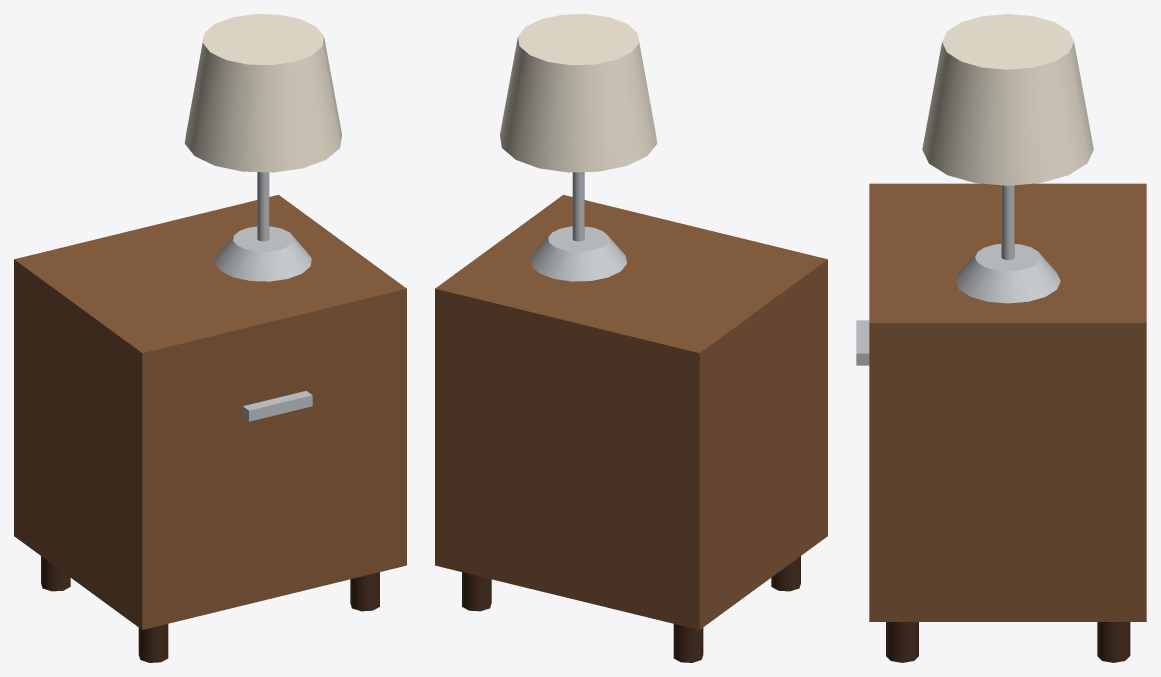
Rendered from nightstand.glb.
3 renders of one model, left to right at view 1: azimuth 30°, elevation 25°; view 2: azimuth 150°, elevation 25°; view 3: azimuth 270°, elevation 25°, orthographic. The views are drawn at different scales.
Visible parts, largest first — view 1: nightstand; view 2: nightstand; view 3: nightstand.
Part boxes in pixels (bbox=[...]): nightstand: bbox=[14, 14, 406, 662]; nightstand: bbox=[435, 14, 827, 662]; nightstand: bbox=[856, 14, 1146, 662].
Size of the model in its own units: 0.5 by 0.98 by 0.44.
